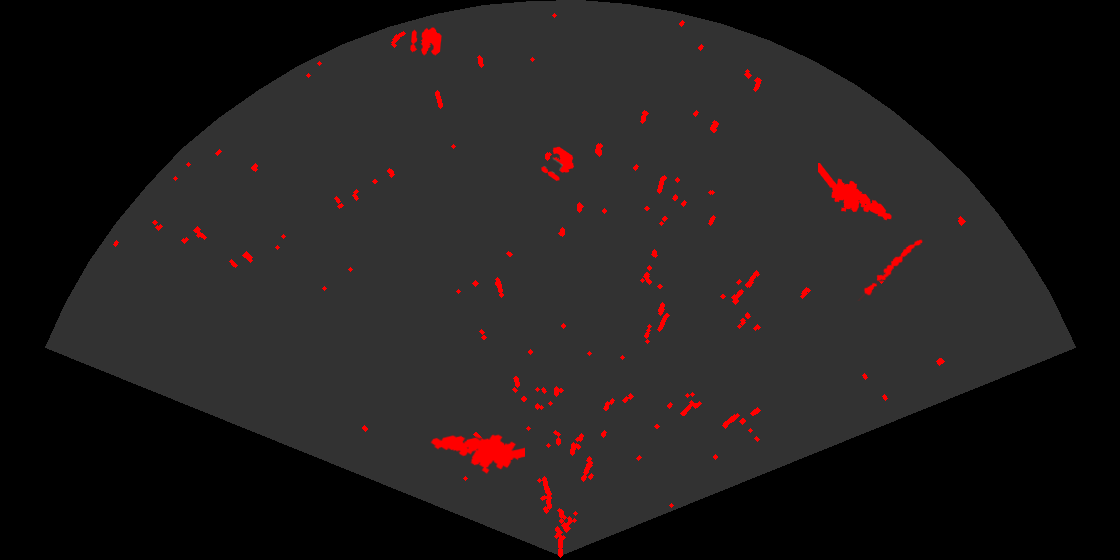ball: (540, 145, 576, 183), (409, 26, 443, 57)
chain: (856, 238, 924, 301)
frogman: (818, 163, 893, 222), (429, 433, 525, 476)
